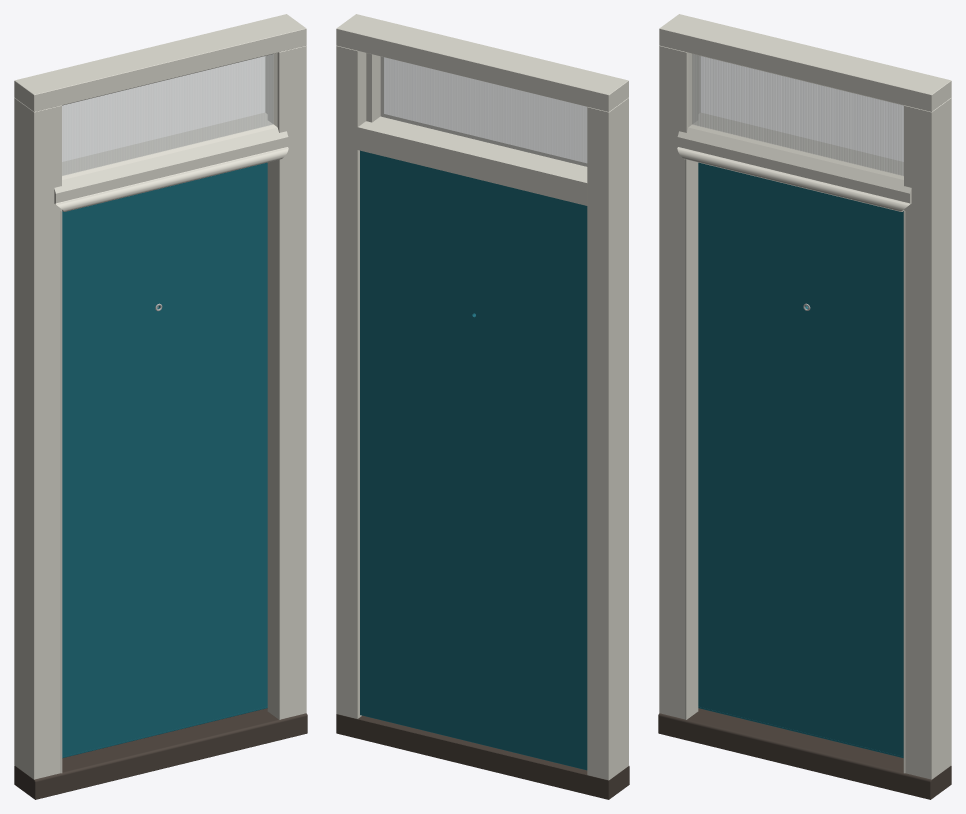
Rendered from door_F6.glb.
The picture shows the model from 3 angles, left to right: view 1: azimuth 30°, elevation 25°; view 2: azimuth 150°, elevation 25°; view 3: azimuth 330°, elevation 25°; orthographic projection.
Parts seen in each view (by area): view 1: leaf_frame, frame_jamb_L, frame_jamb_R, glass_fanlight_flutes, glass_fanlight, frame_transom, frame_head, stone_threshold, frame_stop_bead_L, frame_glazing_bead, frame_stop_bead_R; view 2: leaf_frame, frame_jamb_L, frame_jamb_R, glass_fanlight, glass_fanlight_flutes, frame_head, frame_transom, stone_threshold, frame_glazing_bead; view 3: leaf_frame, frame_jamb_R, frame_jamb_L, glass_fanlight_flutes, glass_fanlight, frame_transom, frame_head, stone_threshold, frame_stop_bead_R, frame_glazing_bead, frame_stop_bead_L.
Part boxes in pixels (left/top/right/bottom): leaf_frame: left=62, top=162, right=267, bottom=758; frame_jamb_L: left=14, top=97, right=61, bottom=779; frame_jamb_R: left=265, top=45, right=306, bottom=719; glass_fanlight_flutes: left=62, top=54, right=273, bottom=175; glass_fanlight: left=62, top=54, right=273, bottom=175; frame_transom: left=54, top=113, right=288, bottom=211; frame_head: left=14, top=14, right=306, bottom=111; stone_threshold: left=14, top=708, right=307, bottom=799; frame_stop_bead_L: left=60, top=210, right=62, bottom=773; frame_glazing_bead: left=62, top=52, right=277, bottom=179; frame_stop_bead_R: left=279, top=159, right=280, bottom=719; leaf_frame: left=360, top=150, right=587, bottom=770; frame_jamb_L: left=587, top=98, right=628, bottom=780; frame_jamb_R: left=336, top=45, right=380, bottom=718; glass_fanlight: left=381, top=57, right=586, bottom=166; glass_fanlight_flutes: left=382, top=57, right=586, bottom=165; frame_head: left=336, top=14, right=628, bottom=111; frame_transom: left=357, top=116, right=587, bottom=205; stone_threshold: left=336, top=714, right=629, bottom=799; frame_glazing_bead: left=381, top=56, right=587, bottom=166; leaf_frame: left=698, top=162, right=903, bottom=758; frame_jamb_R: left=904, top=97, right=951, bottom=779; frame_jamb_L: left=659, top=45, right=700, bottom=719; glass_fanlight_flutes: left=692, top=54, right=903, bottom=175; glass_fanlight: left=692, top=54, right=903, bottom=175; frame_transom: left=677, top=113, right=911, bottom=211; frame_head: left=659, top=14, right=951, bottom=111; stone_threshold: left=658, top=708, right=951, bottom=799; frame_stop_bead_R: left=903, top=210, right=905, bottom=773; frame_glazing_bead: left=688, top=52, right=903, bottom=179; frame_stop_bead_L: left=685, top=159, right=686, bottom=719.
Bounding box in the file's own units: 1 × 2.47 × 0.149.
